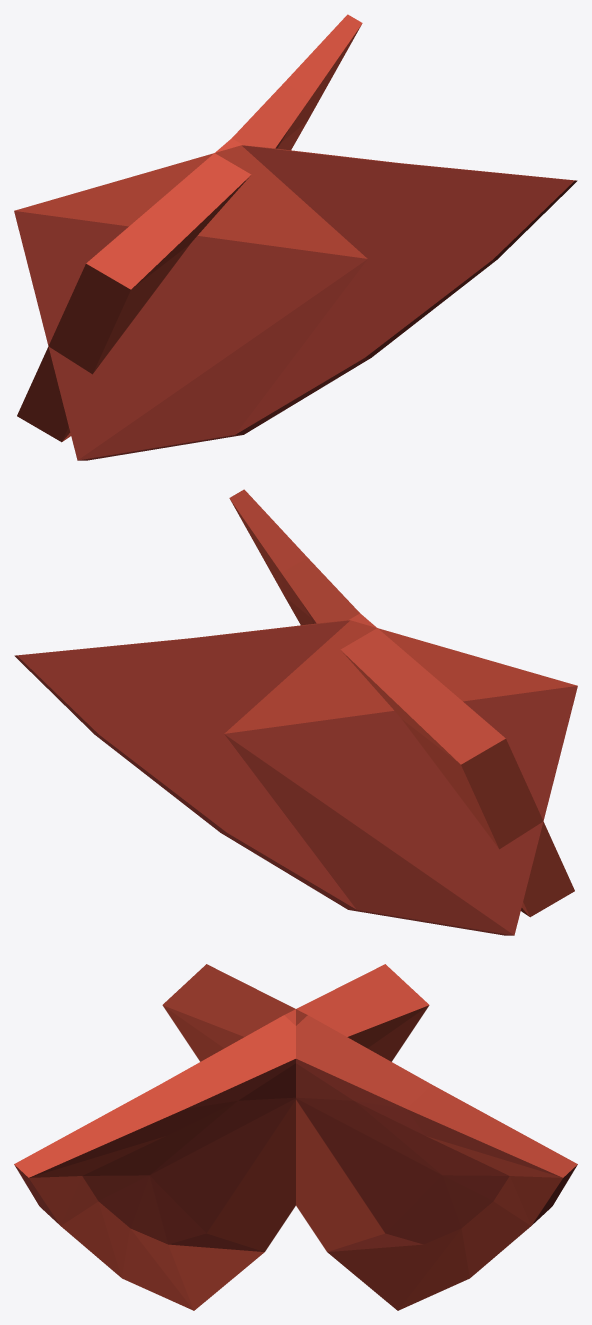
File: ip_long.glb
3 views of the same model, one above another, from view 1: azimuth 30°, elevation 25°; view 2: azimuth 150°, elevation 25°; view 3: azimuth 270°, elevation 25° (orthographic). The views are drawn at different scales.
Visible parts, largest first — view 1: Ear_R, Ear_L; view 2: Ear_L, Ear_R; view 3: Ear_L, Ear_R.
Part boxes in pixels (x1,y1,x2,y2): Ear_R: (14,145,577,460); Ear_L: (17,14,362,442); Ear_L: (14,620,577,935); Ear_R: (229,489,574,917); Ear_L: (162,964,577,1310); Ear_R: (14,964,429,1310).
Bounding box in the file's own units: 0.0841 × 0.0513 × 0.0782.
1 material, 1 textured.
